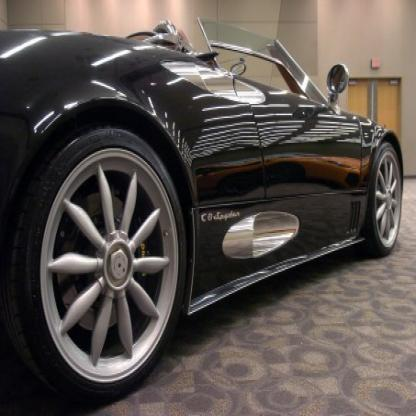Vehicle: (1, 14, 406, 410)
